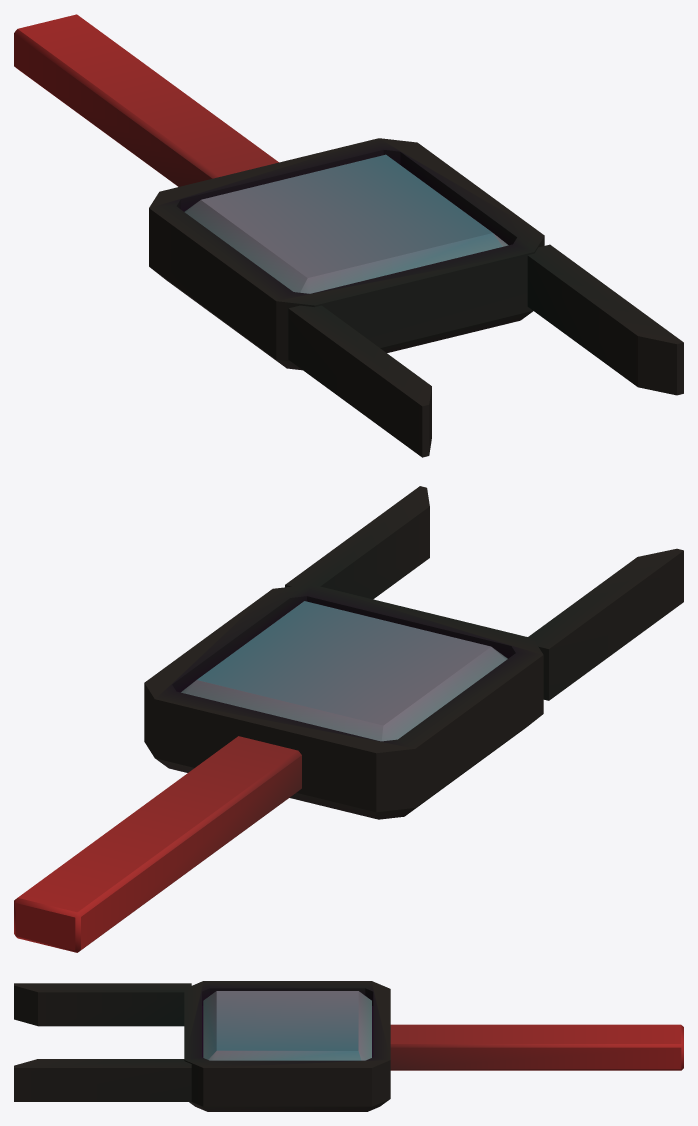
3 renders of one model, top to bottom at view 1: azimuth 30°, elevation 25°; view 2: azimuth 150°, elevation 25°; view 3: azimuth 270°, elevation 25°, orthographic. The views are drawn at different scales.
Visible parts, largest first — view 1: border, gray_panel, red_handle, dark_arm.003, dark_arm; view 2: border, gray_panel, red_handle, dark_arm, dark_arm.003; view 3: border, red_handle, gray_panel, dark_arm.003, dark_arm.
Boxes of the visible parts, <box> form: border: <box>149,138,544,370</box>; gray_panel: <box>184,154,508,293</box>; red_handle: <box>14,14,278,186</box>; dark_arm.003: <box>527,244,683,395</box>; dark_arm: <box>288,305,431,457</box>; border: <box>144,584,543,819</box>; gray_panel: <box>181,601,507,741</box>; red_handle: <box>14,736,301,952</box>; dark_arm: <box>528,548,683,700</box>; dark_arm.003: <box>285,486,429,599</box>; border: <box>184,981,390,1111</box>; red_handle: <box>390,1024,683,1070</box>; gray_panel: <box>203,991,371,1060</box>; dark_arm.003: <box>14,1059,191,1101</box>; dark_arm: <box>14,983,191,1026</box>.
Bounding box in the file's own units: 0.0768 × 0.0215 × 0.2502.
